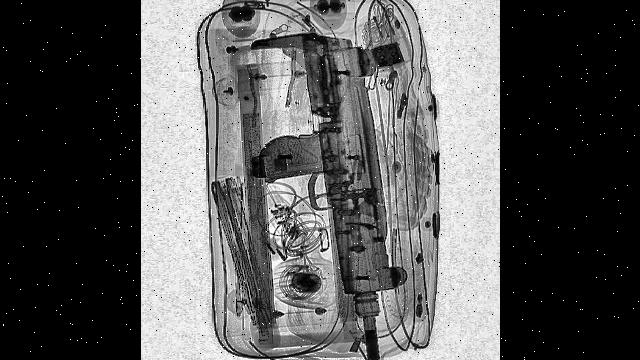Gun: (245, 32, 406, 360)
